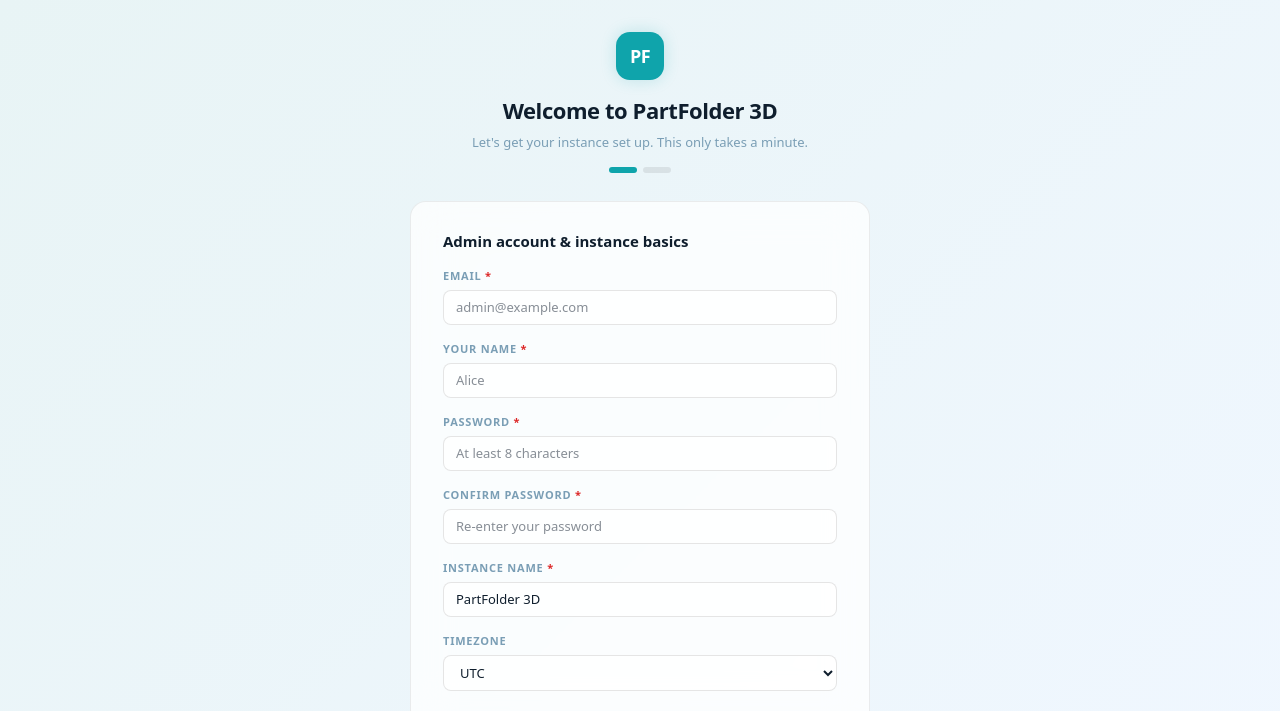
it: SetupPage confirm-password validation › blocks submission when confirm-password is empty
Step 1. Type "admin@test.com" into the field labelled "Email *" → (640, 307), box [443,290,837,325]
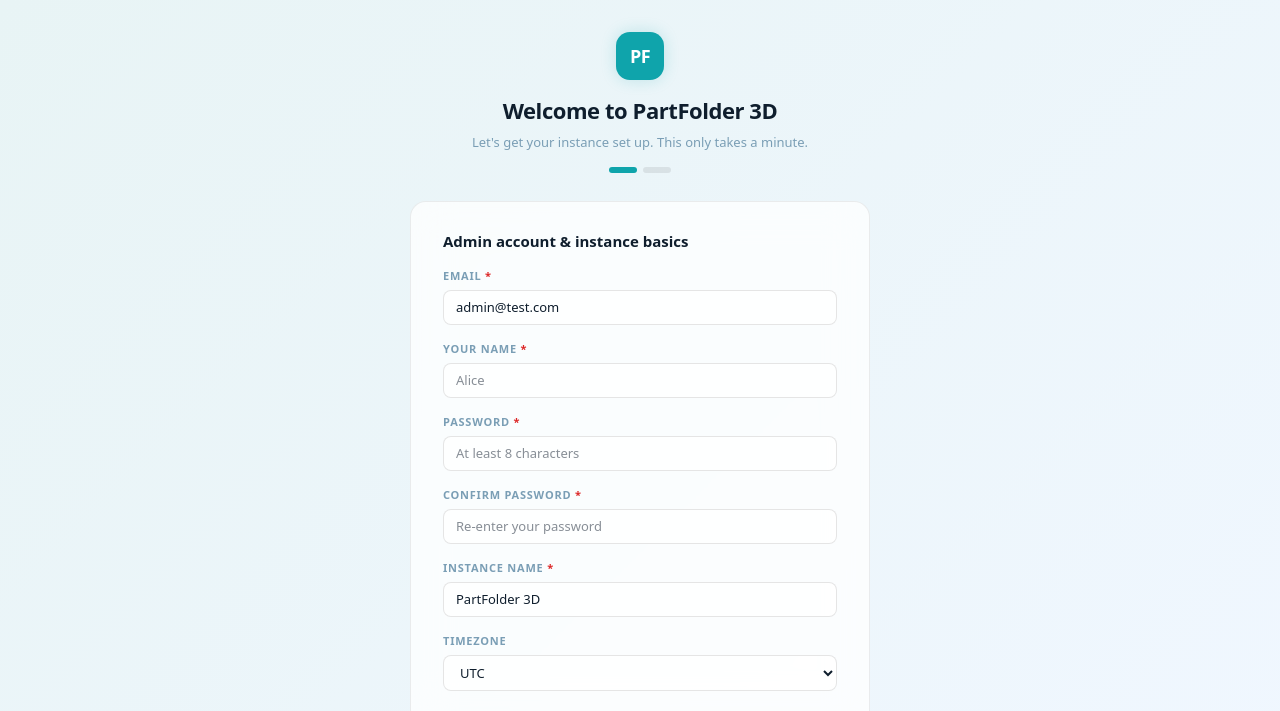
Step 2. Type "Admin" into the field labelled "Your name *" → (640, 380), box [443,362,837,398]
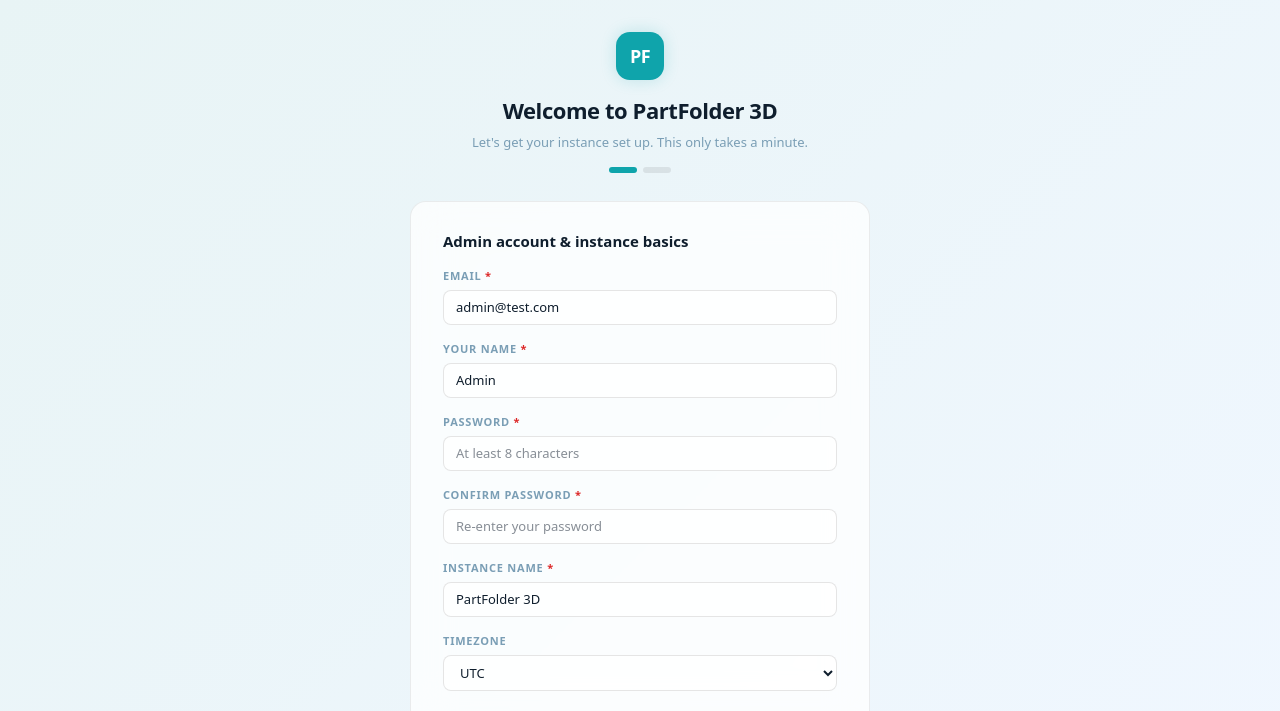
Step 3. Type "hunter2correct" into the password field labelled "Password *" → (640, 453), box [443,436,837,471]
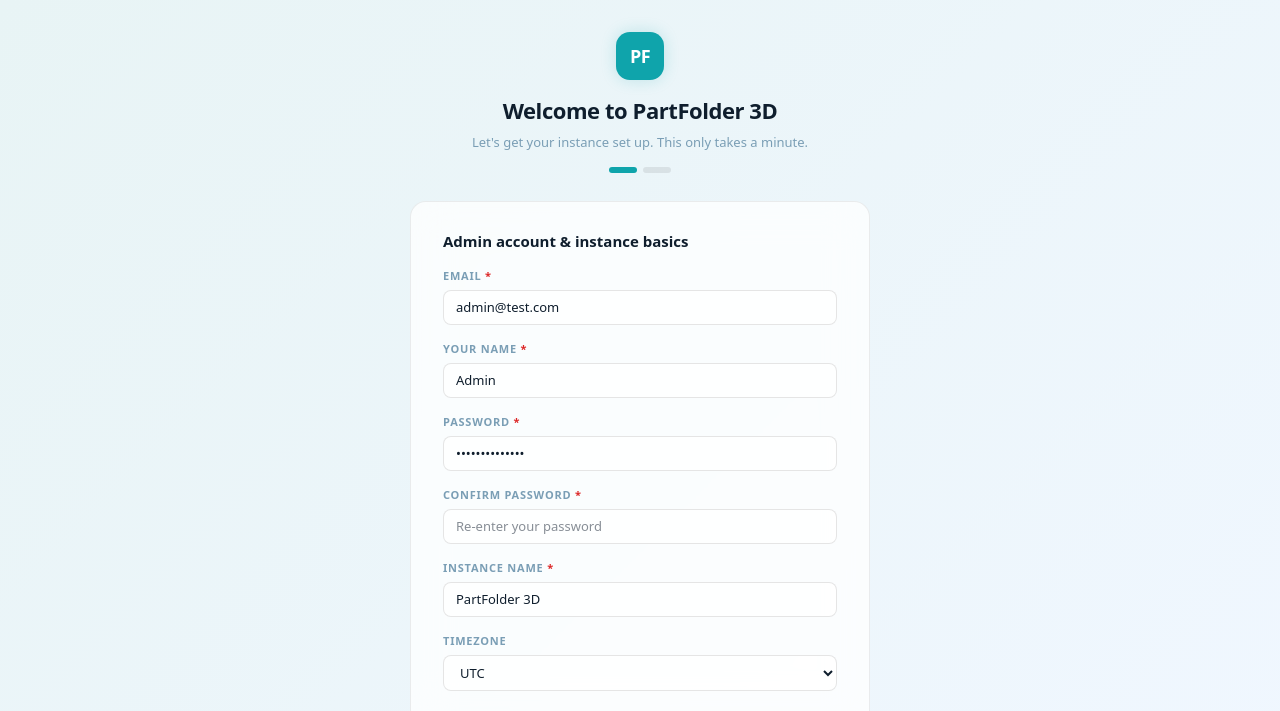
Step 4. Clear the password field labelled "Confirm password *" → (640, 526), box [443,508,837,544]
(page scrolled)
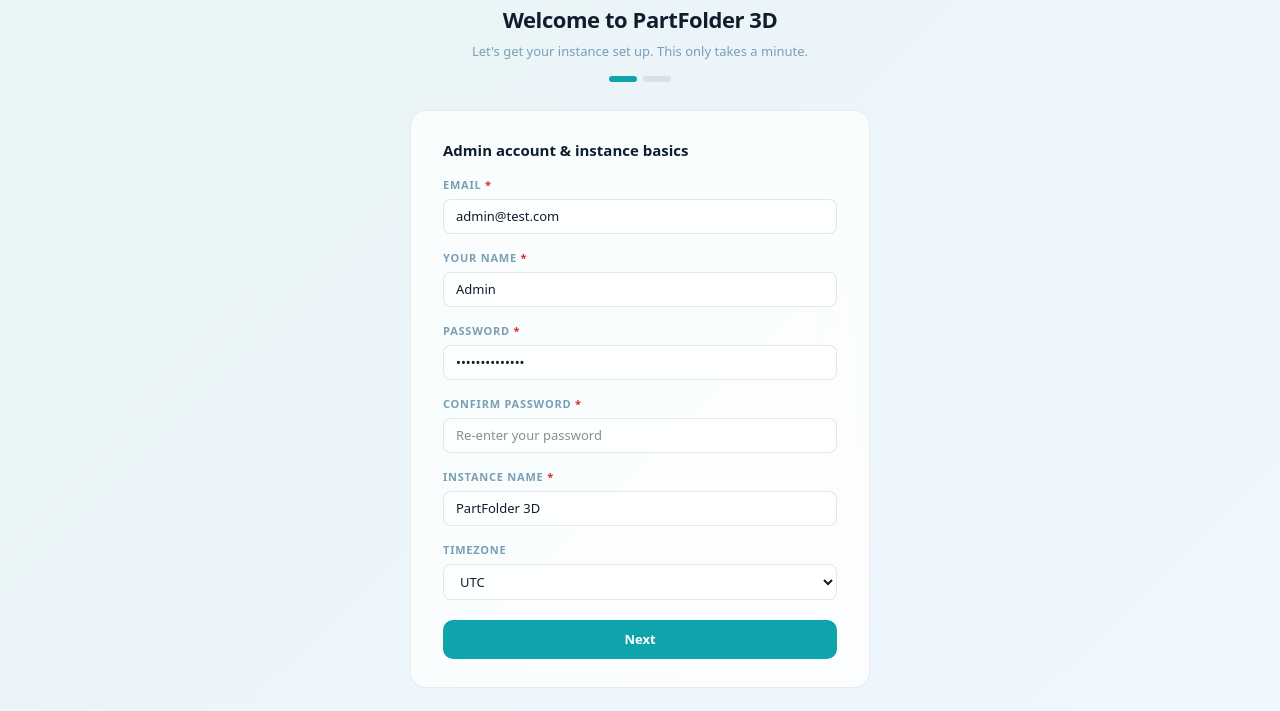
Step 5. Click the button "Next" → (640, 639), box [443,620,837,659]
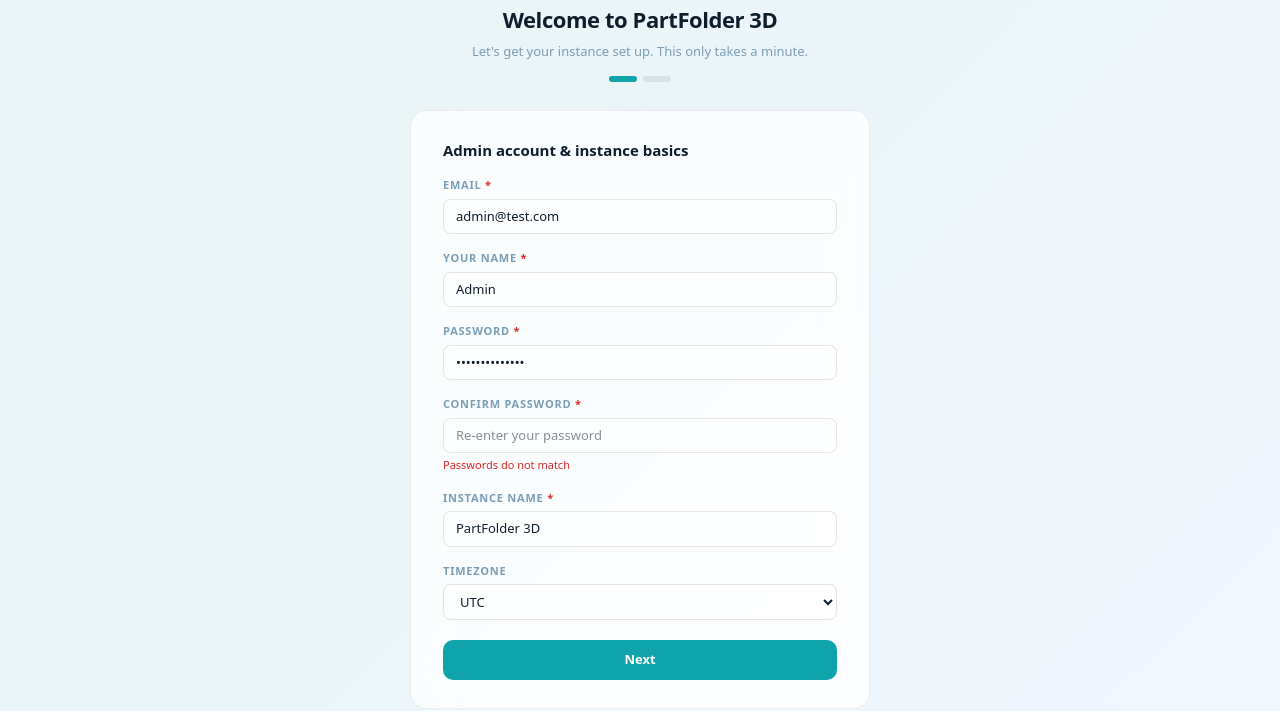
Check: the text "Passwords do not match" is shown, box [443,457,570,472]
